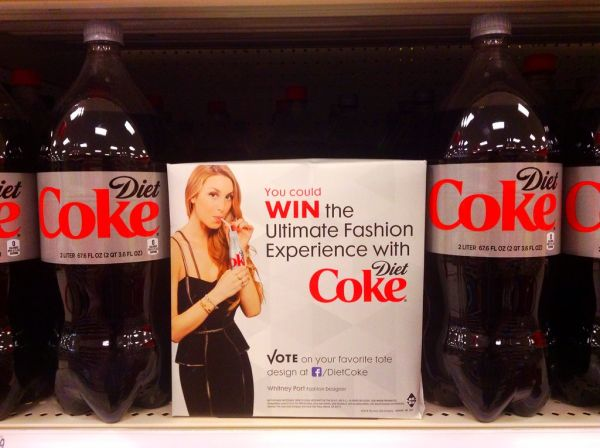unknown_bottle: (424, 14, 563, 423), (37, 21, 171, 423), (0, 79, 59, 414), (542, 73, 600, 406), (262, 84, 326, 159)
